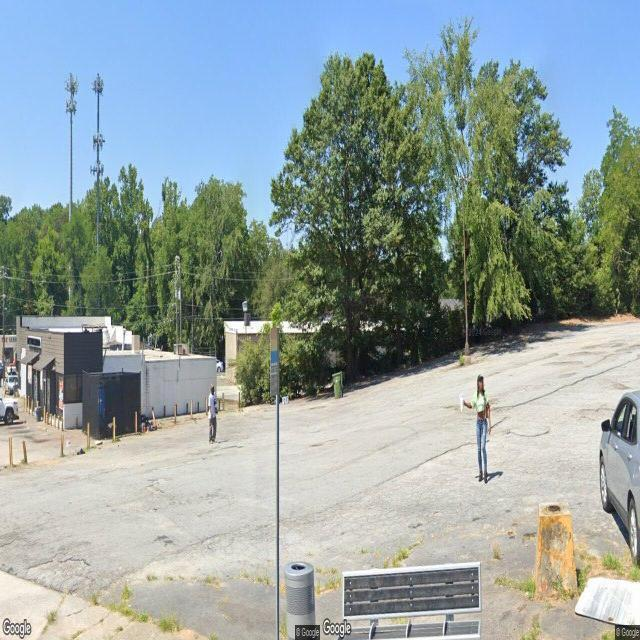seating: (340, 560, 482, 640)
trash_can: (284, 562, 316, 640)
